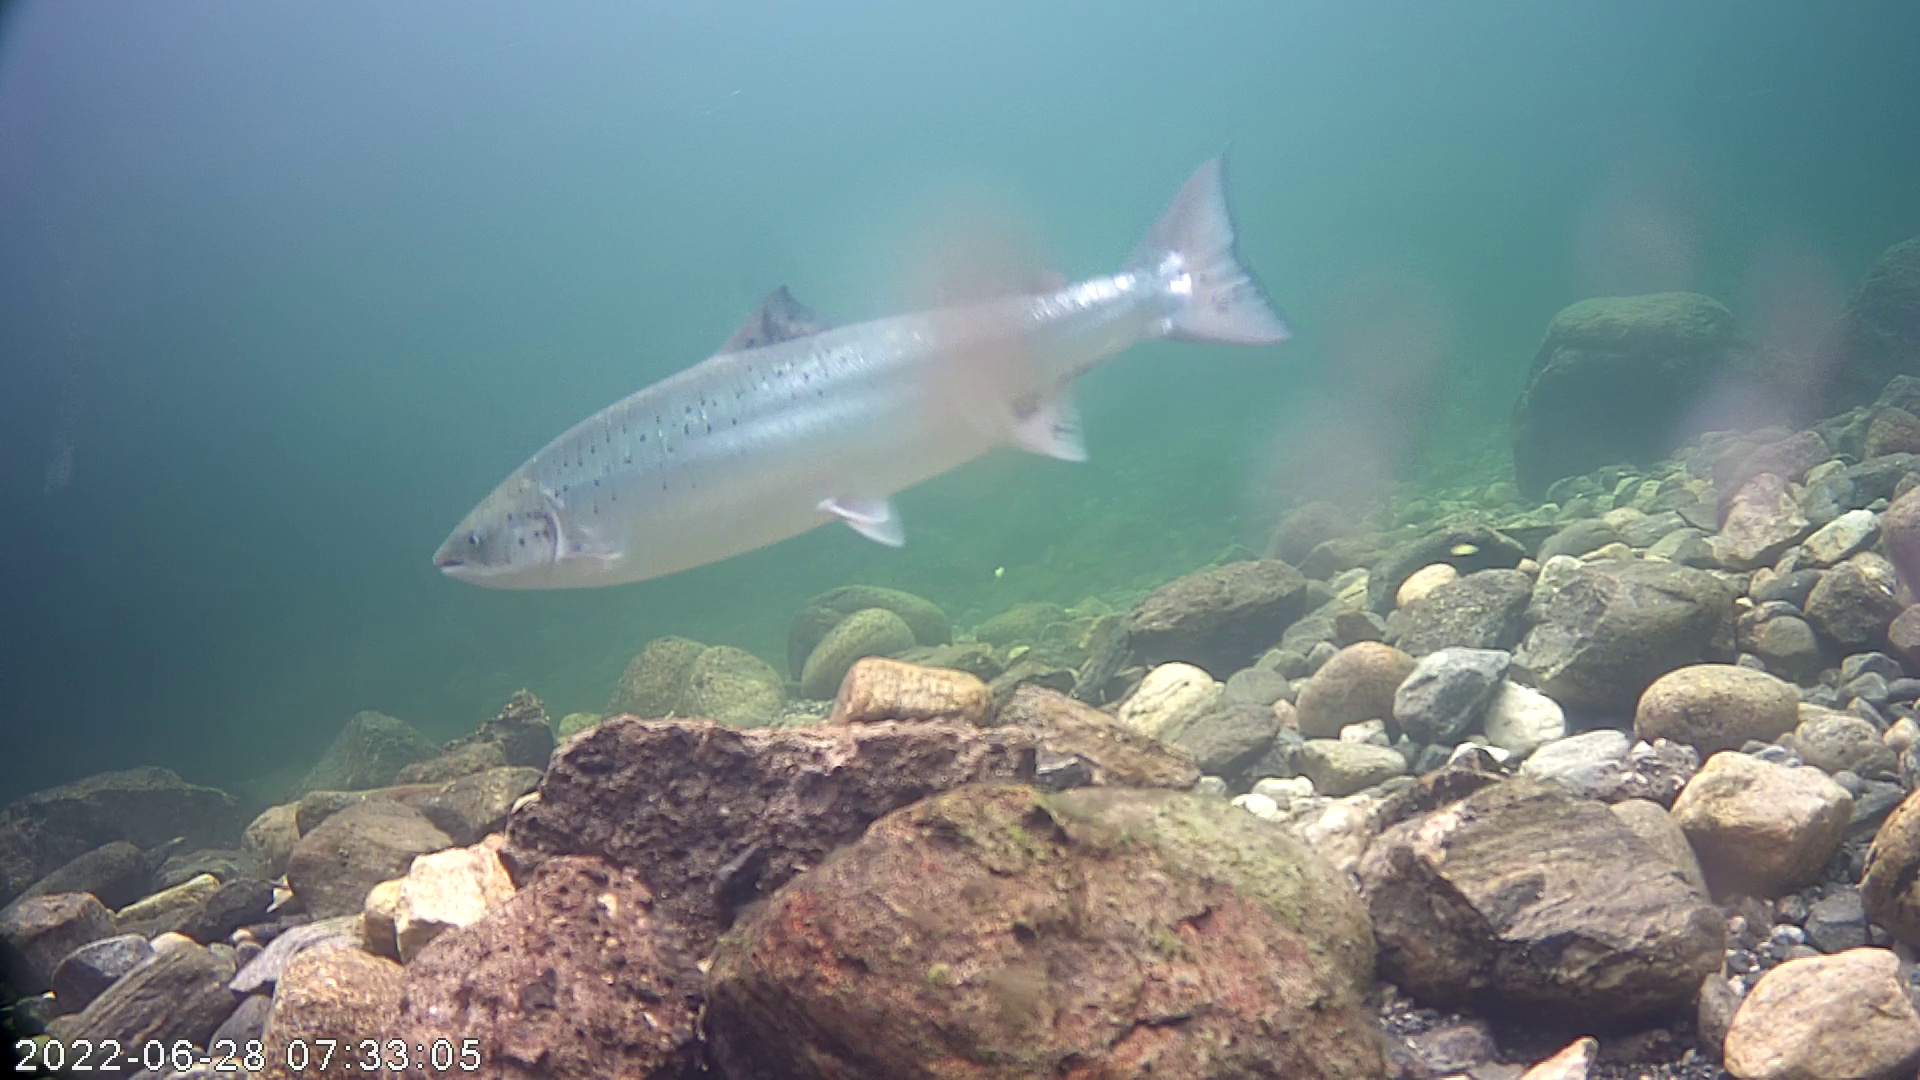salmon: (423, 123, 1311, 618)
